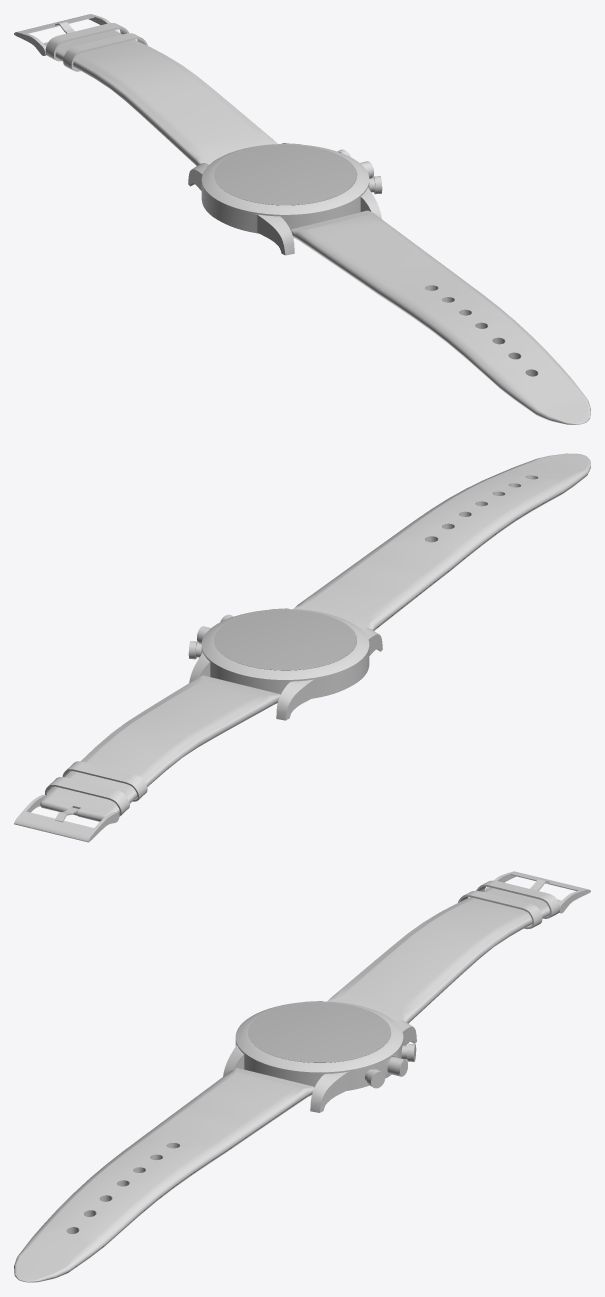
3 renders of one model, top to bottom at view 1: azimuth 30°, elevation 25°; view 2: azimuth 150°, elevation 25°; view 3: azimuth 330°, elevation 25°, orthographic.
Visible parts, largest first — view 1: Watchband_LP, Glass_LP, Silver_LP, Gold_LP, Fastening_LP, Сlasp_LP; view 2: Watchband_LP, Glass_LP, Silver_LP, Gold_LP, Fastening_LP, Сlasp_LP; view 3: Watchband_LP, Glass_LP, Silver_LP, Gold_LP, Fastening_LP, Сlasp_LP, Button_LP.
Boxes of the visible parts, x1,y1,x2,y2 form: Watchband_LP: (43, 30, 590, 424); Glass_LP: (214, 145, 356, 205); Silver_LP: (188, 143, 381, 255); Gold_LP: (201, 144, 369, 216); Fastening_LP: (45, 23, 147, 71); Сlasp_LP: (14, 14, 118, 55); Watchband_LP: (40, 453, 590, 821); Glass_LP: (214, 610, 356, 670); Silver_LP: (189, 608, 382, 720); Gold_LP: (201, 609, 369, 681); Fastening_LP: (45, 761, 147, 816); Сlasp_LP: (14, 794, 119, 842); Watchband_LP: (14, 887, 561, 1282); Glass_LP: (248, 1002, 390, 1062); Silver_LP: (223, 1001, 416, 1112); Gold_LP: (235, 1001, 403, 1073); Fastening_LP: (458, 880, 559, 929); Сlasp_LP: (486, 871, 590, 913); Button_LP: (365, 1043, 416, 1088).
Size of the model in its own units: 4.85 by 1.05 by 28.41.
